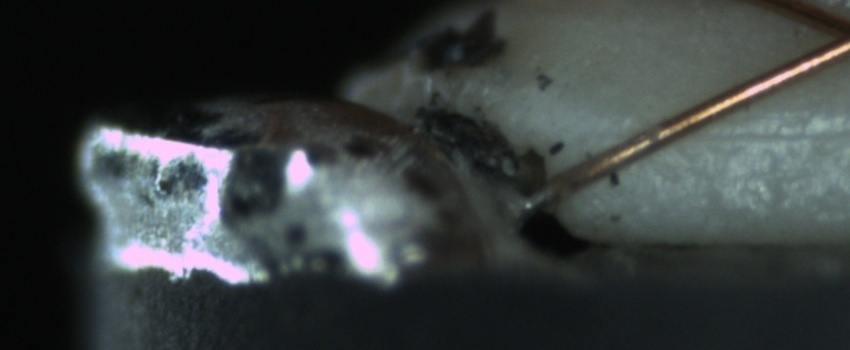CL: (804, 1, 850, 68)
DL: (643, 107, 848, 166)
